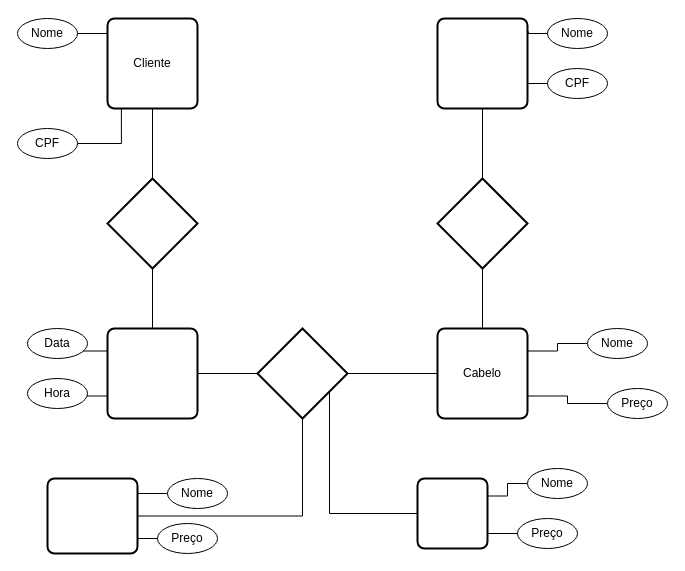
Image size: 685x571. Some labels were removed from this diagram. The shapes that lost their labels are listed below. From the top down, each one's centre as x and y in pixels, then its label:
(482,63): Barbeiro
(152,223): Faz
(482,223): Executa
(152,373): Agendamento
(302,373): Recebe
(92,515): Barba
(452,513): Outros
